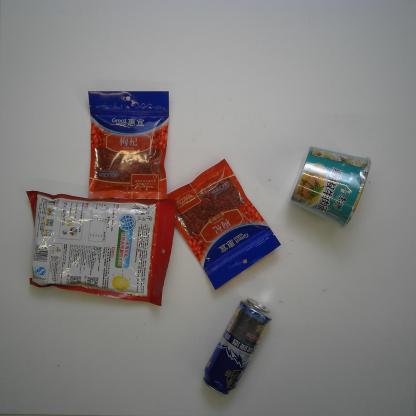Alcohol: (200, 298, 274, 398)
Dried Fruit: (162, 155, 284, 293), (86, 88, 172, 205)
Instant Drink: (21, 188, 177, 310)
Instant Noodles: (288, 144, 372, 232)
